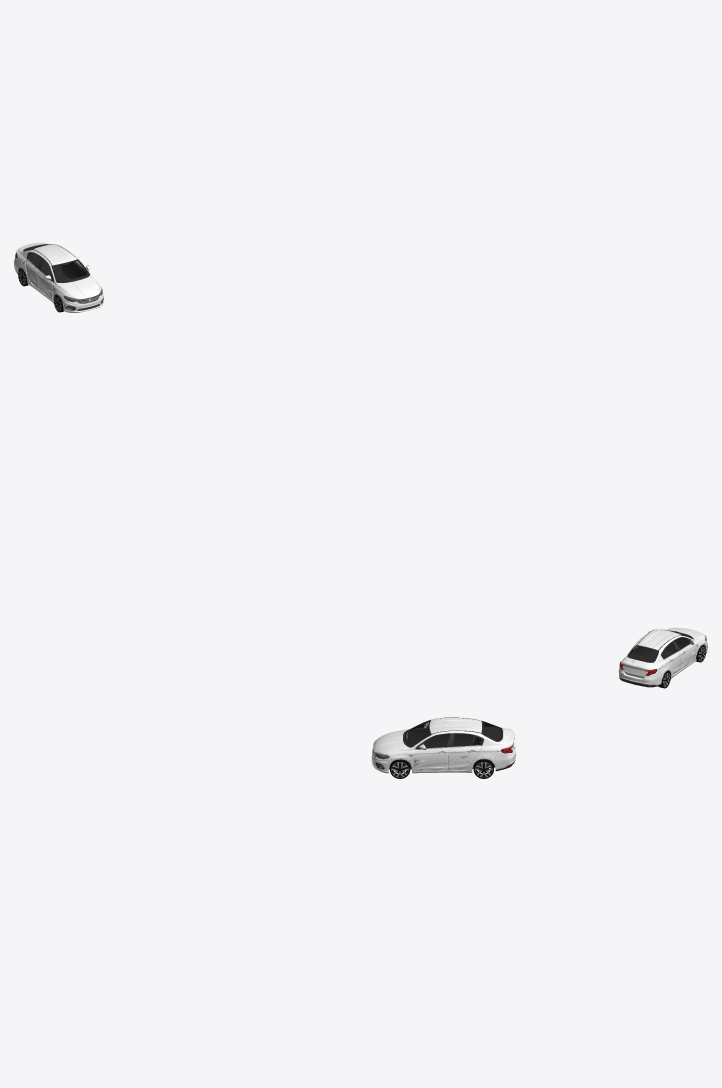
Rendered from fiat-tipo.glb.
3 renders of one model, top to bottom at view 1: azimuth 30°, elevation 25°; view 2: azimuth 150°, elevation 25°; view 3: azimuth 270°, elevation 25°, orthographic. The views are drawn at different scales.
Parts seen in each view (by area): view 1: Object_20, Object_27, Object_33, Object_24, Object_22; view 2: Object_27, Object_22, Object_20, Object_33; view 3: Object_20, Object_33, Object_23, Object_22, Object_26, Object_27.
Boxes of the visible parts, left/top/right/bottom form: Object_20: left=23, top=244, right=89, bottom=282; Object_27: left=16, top=244, right=77, bottom=303; Object_33: left=23, top=244, right=89, bottom=282; Object_24: left=52, top=275, right=99, bottom=300; Object_22: left=17, top=242, right=53, bottom=299; Object_27: left=637, top=629, right=696, bottom=679; Object_22: left=621, top=643, right=696, bottom=673; Object_20: left=628, top=631, right=693, bottom=662; Object_33: left=627, top=629, right=692, bottom=662; Object_20: left=403, top=720, right=502, bottom=761; Object_33: left=404, top=720, right=502, bottom=747; Object_23: left=373, top=736, right=481, bottom=770; Object_22: left=414, top=727, right=514, bottom=770; Object_26: left=412, top=731, right=513, bottom=773; Object_27: left=415, top=717, right=509, bottom=733.
Bounding box in the file's own units: 26.73 × 3.05 × 24.27.
